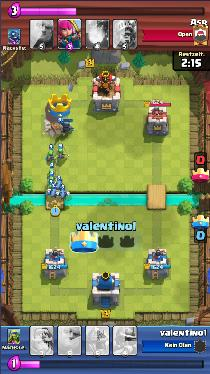ally_mini_pekka: (60, 120, 74, 134)
ally_minion: (54, 178, 62, 188), (58, 190, 69, 197), (49, 189, 58, 196)
ally_spear_goblin: (45, 149, 56, 159), (56, 148, 66, 159), (47, 166, 56, 176), (46, 176, 56, 184)
